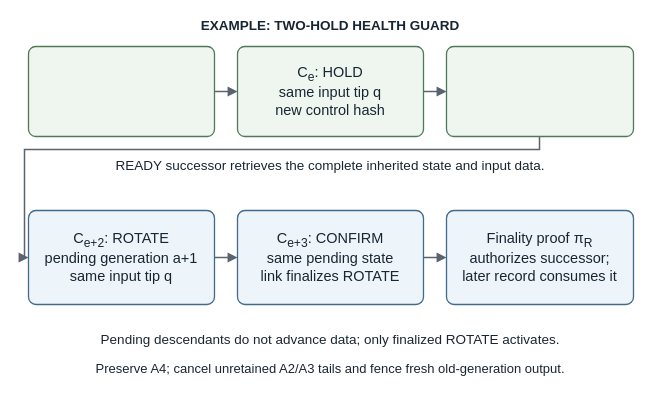
This 652x394 diagram has some shape labels left out. The box of each missing label's shape, as (x1, y1, x2, y2) in pixels:
C e+1 : HOLD same input tip q link finalizes C e: (445, 45, 634, 137)
C e−1 : anchor generation a input tip q: (27, 45, 215, 137)
